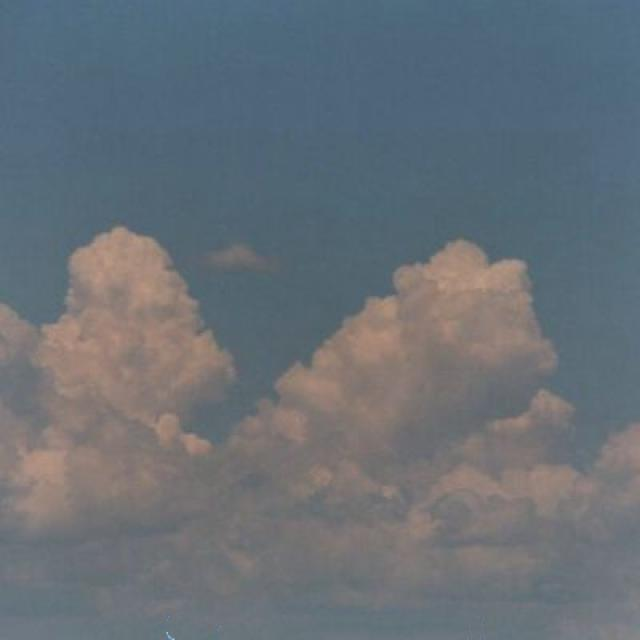Cs: (1, 129, 640, 640)
